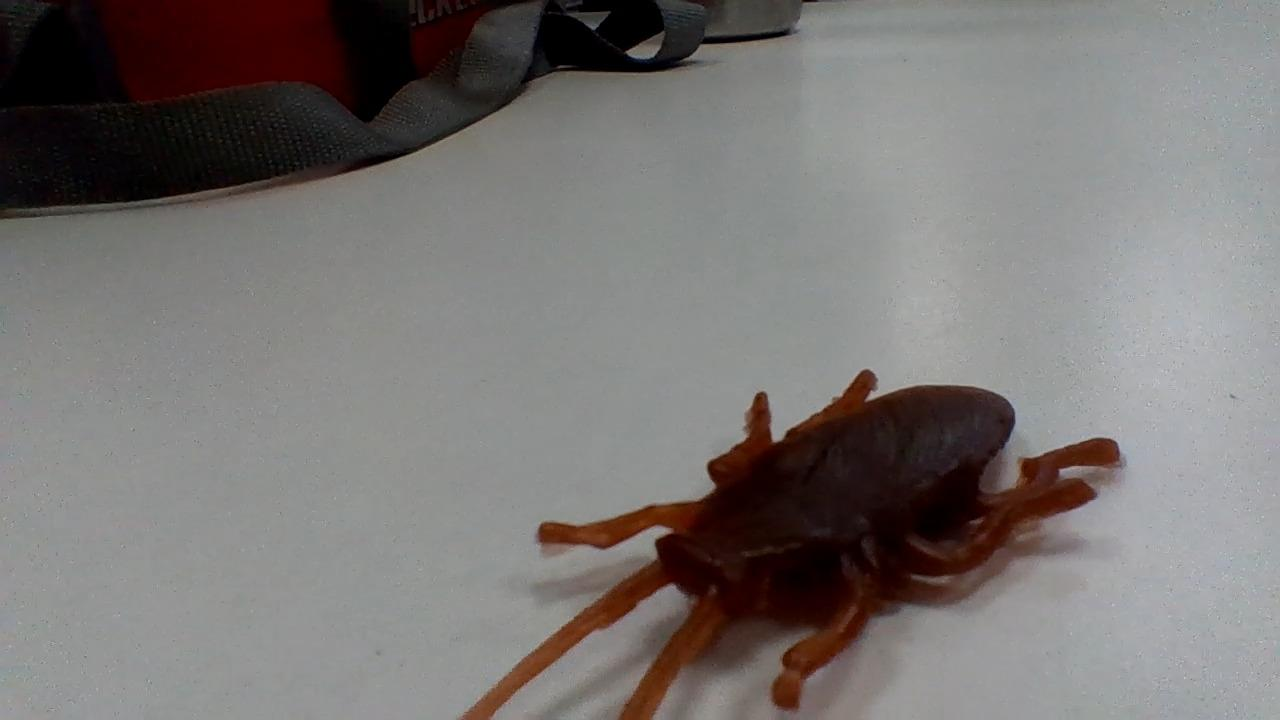cockroach: (454, 349, 1123, 720)
